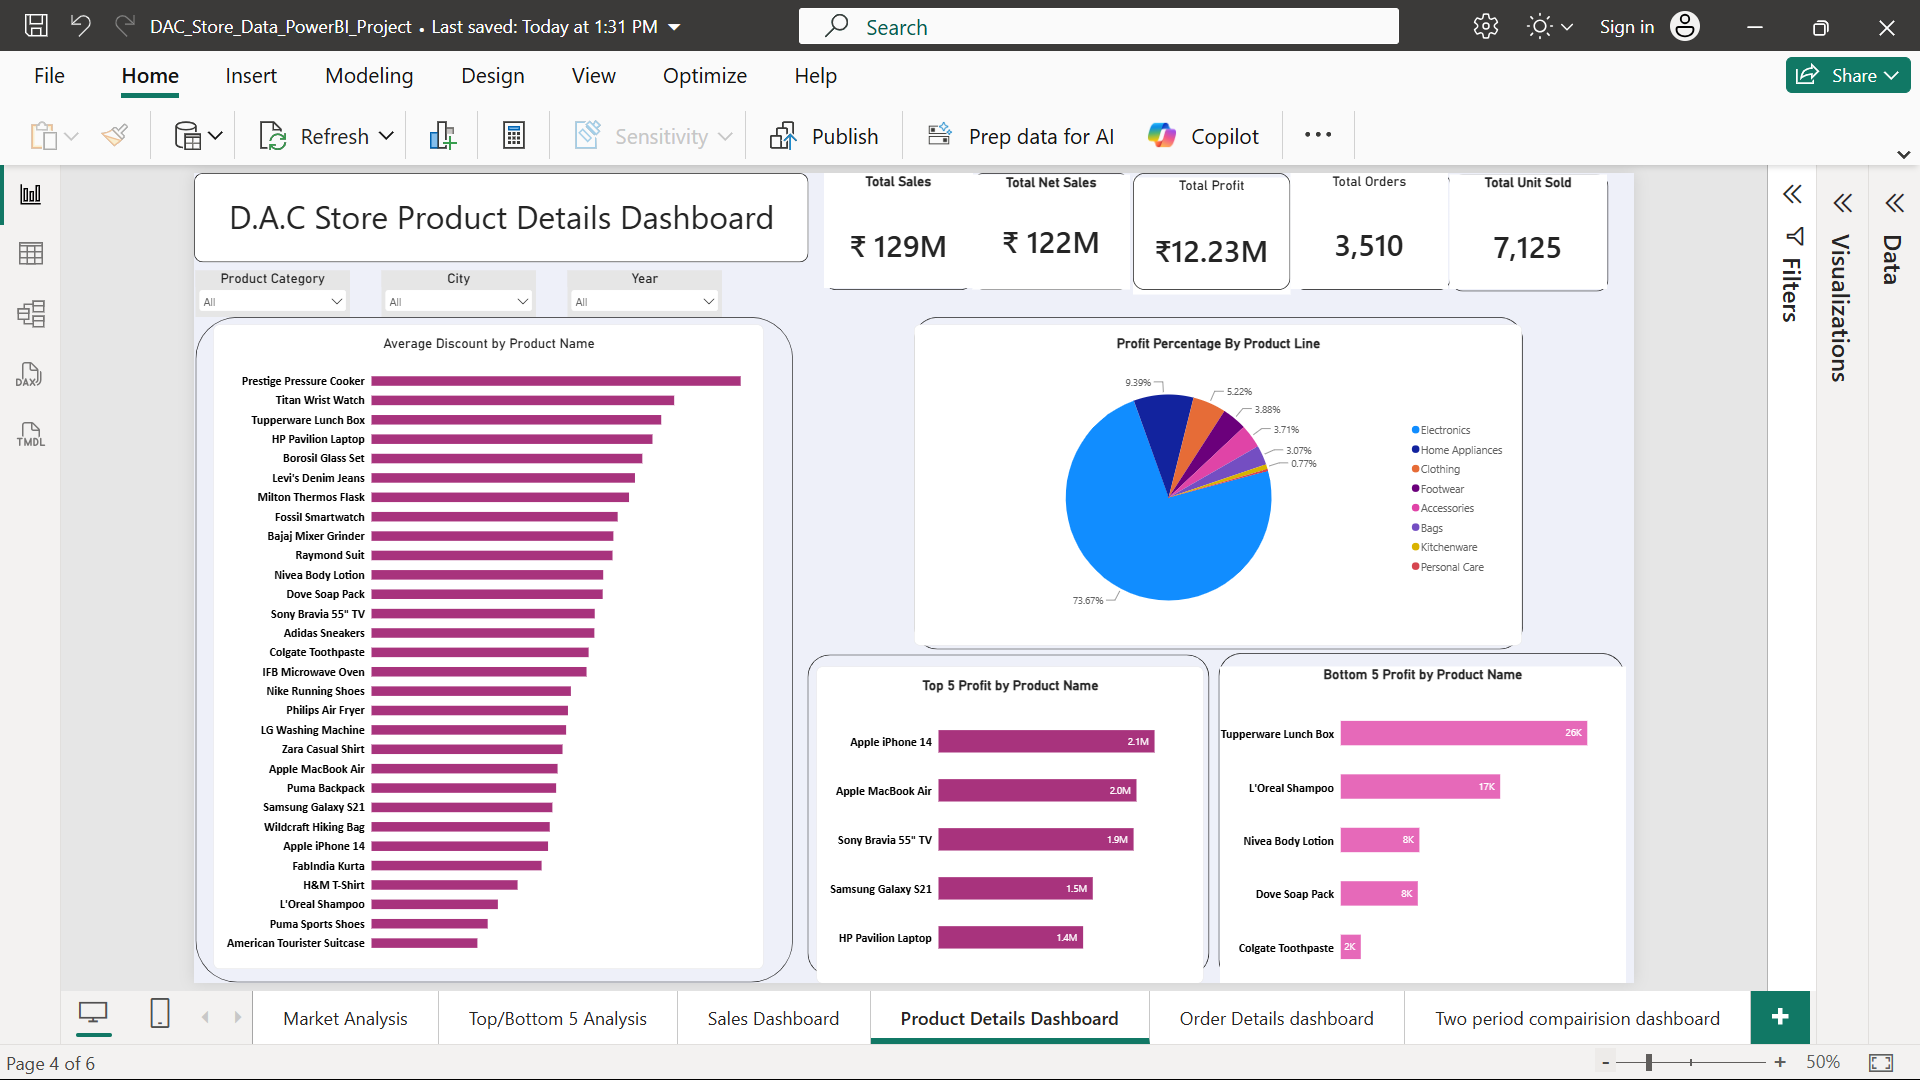

What the dashboard file says about the page in this screenshot:
{"tool":"powerbi","page":{"name":"Product Details Dashboard","canvas":[1920,1080],"ordinal":3},"visuals":[{"type":"shape","box":[0,0,819.2,119.1],"z":0},{"type":"shape","box":[2.8,192.8,796.5,887.3],"z":1000},{"type":"shape","box":[1366.3,640.6,541.4,439.4],"z":3000},{"type":"shape","box":[817.9,641.3,535.8,428],"z":4000},{"type":"shape","box":[839.1,0,198.4,155.9],"z":5000},{"type":"shape","box":[1037.5,0,209.8,155.9],"z":7000},{"type":"barChart","title":"Average Discount by Product Name","fields":{"Category":["Dim Product.Product Name"],"Y":["Avg(Fact Table.Discount Percentage)"]},"box":[25.5,202,733.5,859],"z":8000},{"type":"barChart","title":"Top 5 Profit by Product Name","fields":{"Category":["Dim Product.Product Name"],"Y":["Sum(Fact Table.Profit)"]},"box":[830.6,657.6,515.9,422.4],"z":9000},{"type":"barChart","title":"Bottom 5 Profit by Product Name","fields":{"Category":["Dim Product.Product Name"],"Y":["Sum(Fact Table.Profit)"]},"box":[1367,657,541.3,421.7],"z":10000},{"type":"cardVisual","title":"Total Profit","fields":{"Data":["Sum(Fact Table.Profit)"]},"box":[1251.3,5.9,209.8,155.9],"z":11000},{"type":"textbox","box":[2.8,28.3,816.4,201.3],"z":11001},{"type":"pieChart","title":"Profit Percentage By Product Line","fields":{"Category":["Dim Product.Product Line"],"Y":["Sum(Fact Table.Profit)"]},"box":[961,201.3,810.7,428],"z":11003},{"type":"shape","box":[959.1,192.2,812,443.3],"z":11004},{"type":"slicer","title":"Product Category","fields":{"Values":["Dim Product.Product Line"]},"box":[2.8,130.4,205.9,62.1],"z":11005},{"type":"slicer","title":"City","fields":{"Values":["Dim Customers.City"]},"box":[249.5,130.4,205.9,62.1],"z":11006},{"type":"slicer","title":"Year","fields":{"Values":["Fact Table.Date (dd/mm/yyyy).Variation.Date Hierarchy.Year"]},"box":[498.9,130.4,205.9,62.1],"z":11007},{"type":"shape","box":[1251.3,0,209.8,155.9],"z":11008},{"type":"shape","box":[1465.5,0,209.8,155.9],"z":11009},{"type":"shape","box":[1675.3,2.8,209.8,155.9],"z":11010},{"type":"cardVisual","title":"Total Net Sales","fields":{"Data":["Sum(Fact Table.Net Sales)"]},"box":[1037.5,2.8,209.8,153.1],"z":11011},{"type":"cardVisual","title":"Total Orders","fields":{"Data":["CountNonNull(Fact Table.Order ID)"]},"box":[1461.2,0,209.9,154.9],"z":11012},{"type":"cardVisual","title":"Total Sales","fields":{"Data":["Sum(Fact Table.Total Sales)"]},"box":[839.4,0,198.4,153.1],"z":11013},{"type":"cardVisual","title":"Total Unit Sold","fields":{"Data":["Sum(Fact Table.Units Sold)"]},"box":[1674.9,2,209.9,153],"z":11014}]}

Visuals, with their boxes on the page's 1920x1080 design canvas (x1, y1, x2, y2). These are canvas units, not pixel positions in the 1920x1080 screenshot, which may show the page scaled, cropped or inside an application window:
shape: BBox(0, 0, 819, 119)
shape: BBox(3, 193, 799, 1080)
shape: BBox(1366, 641, 1908, 1080)
shape: BBox(818, 641, 1354, 1069)
shape: BBox(839, 0, 1038, 156)
shape: BBox(1038, 0, 1247, 156)
"Average Discount by Product Name" barChart: BBox(26, 202, 759, 1061)
"Top 5 Profit by Product Name" barChart: BBox(831, 658, 1346, 1080)
"Bottom 5 Profit by Product Name" barChart: BBox(1367, 657, 1908, 1079)
"Total Profit" cardVisual: BBox(1251, 6, 1461, 162)
textbox: BBox(3, 28, 819, 230)
"Profit Percentage By Product Line" pieChart: BBox(961, 201, 1772, 629)
shape: BBox(959, 192, 1771, 636)
"Product Category" slicer: BBox(3, 130, 209, 192)
"City" slicer: BBox(250, 130, 455, 192)
"Year" slicer: BBox(499, 130, 705, 192)
shape: BBox(1251, 0, 1461, 156)
shape: BBox(1466, 0, 1675, 156)
shape: BBox(1675, 3, 1885, 159)
"Total Net Sales" cardVisual: BBox(1038, 3, 1247, 156)
"Total Orders" cardVisual: BBox(1461, 0, 1671, 155)
"Total Sales" cardVisual: BBox(839, 0, 1038, 153)
"Total Unit Sold" cardVisual: BBox(1675, 2, 1885, 155)
